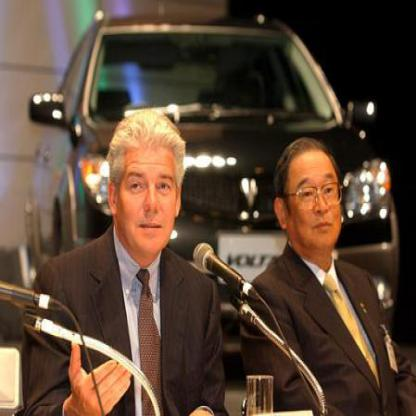face: (116, 116, 183, 258), (283, 142, 345, 259)
